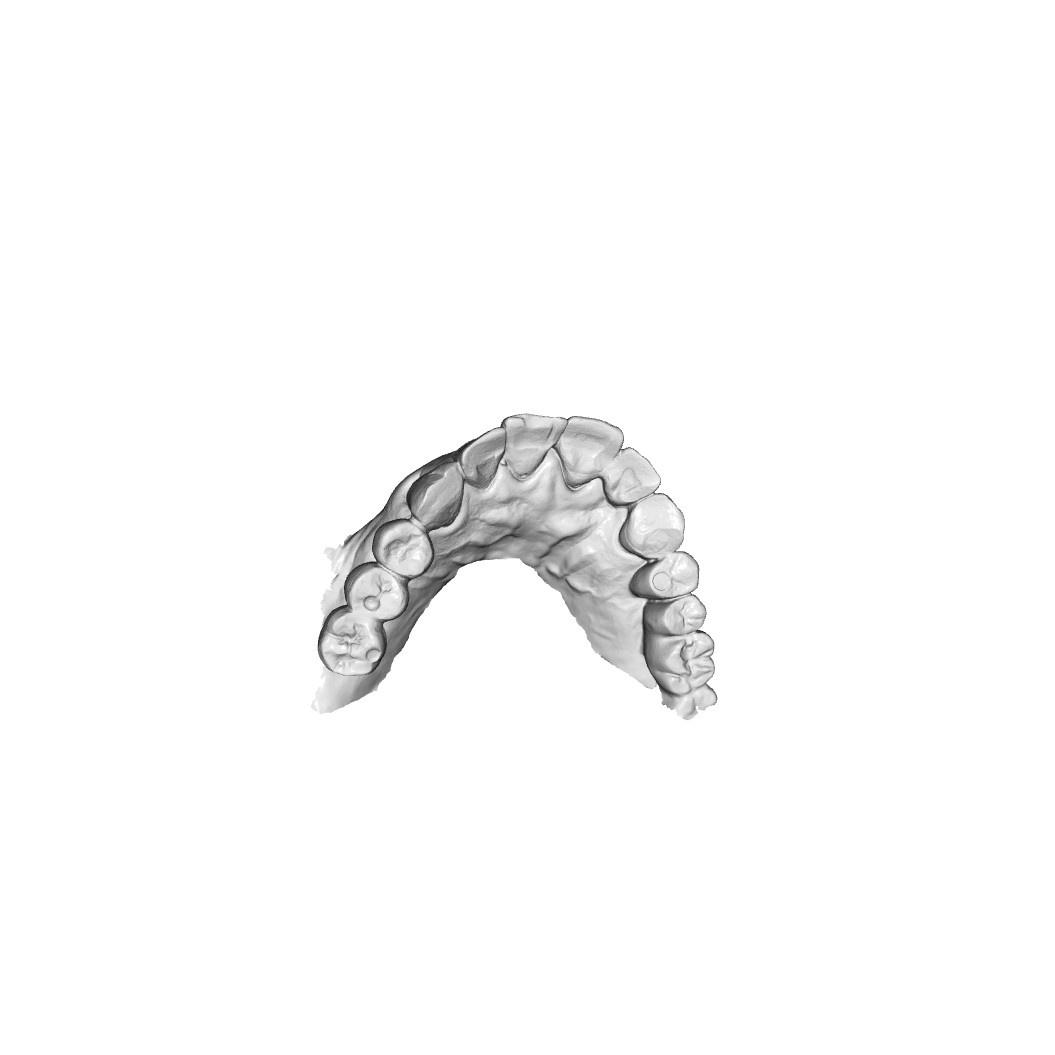canine: (616, 490, 683, 561), (407, 463, 469, 526)
incisor: (559, 409, 626, 490), (500, 413, 566, 481), (604, 445, 662, 507), (457, 423, 507, 487)
molar: (643, 627, 721, 696), (318, 610, 384, 679)
premolar: (629, 549, 700, 602), (347, 566, 406, 625), (642, 592, 710, 642), (378, 522, 436, 574)
